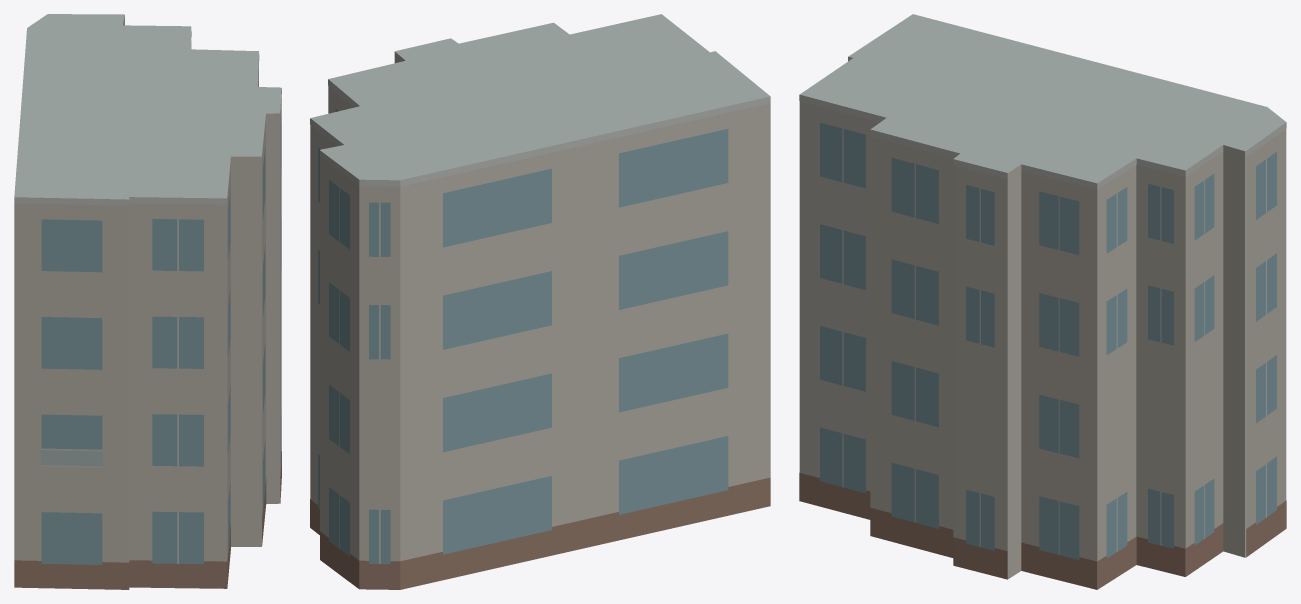
File: survey-upis-32604249.glb
3 renders of one model, left to right at view 1: azimuth 30°, elevation 25°; view 2: azimuth 150°, elevation 25°; view 3: azimuth 270°, elevation 25°, orthographic. The views are drawn at different scales.
Parts seen in each view (by area): view 1: survey-upis-32604249.tmp; view 2: survey-upis-32604249.tmp; view 3: survey-upis-32604249.tmp.
Part boxes in pixels (left/top/right/bottom): survey-upis-32604249.tmp: left=14, top=14, right=281, bottom=589; survey-upis-32604249.tmp: left=310, top=14, right=770, bottom=589; survey-upis-32604249.tmp: left=799, top=14, right=1286, bottom=589.
Size of the model in its own units: 13.68 by 15.3 by 16.62.
